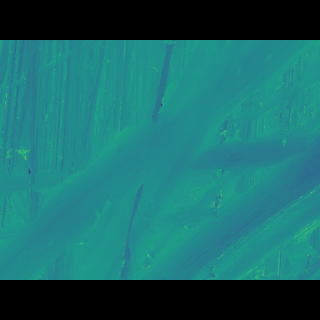Loch: (0, 69, 320, 250)
